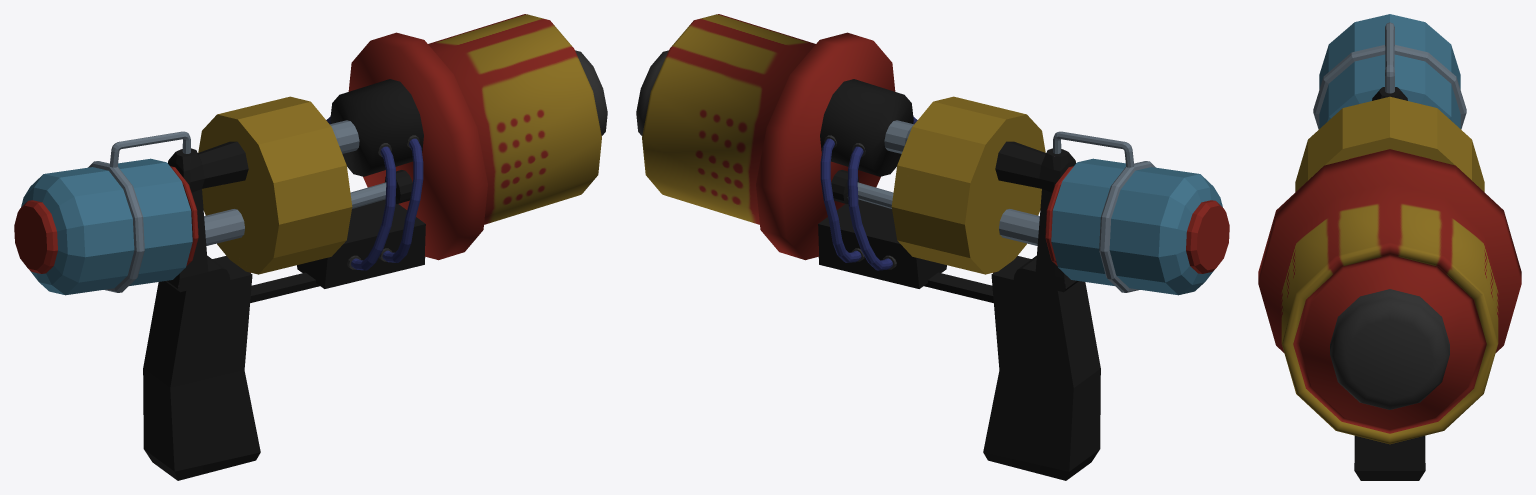
Rendered from paint_shooter.fbx.
3 views of the same model, side by side, from view 1: azimuth 30°, elevation 25°; view 2: azimuth 150°, elevation 25°; view 3: azimuth 270°, elevation 25° (orthographic). The views are drawn at different scales.
Parts seen in each view (by area): view 1: Cylinder.012; view 2: Cylinder.012; view 3: Cylinder.012.
Boxes of the visible parts, x1=… form: Cylinder.012: x1=14, y1=14, x2=607, y2=480; Cylinder.012: x1=636, y1=14, x2=1229, y2=480; Cylinder.012: x1=1258, y1=14, x2=1521, y2=480.
Bounding box in the file's own units: 62.64 × 39.3 × 22.22.
Materials: 1 (1 with a texture image).
